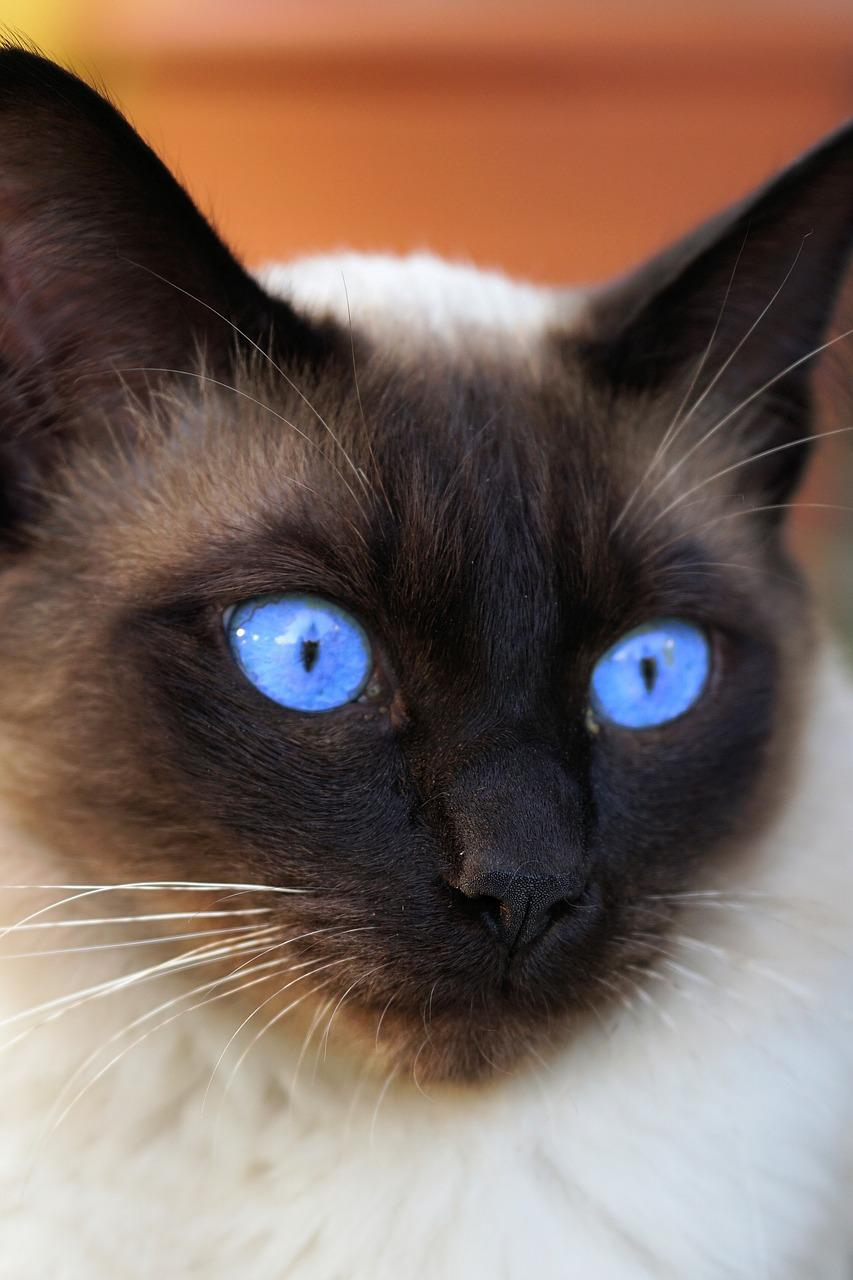siamese: (1, 149, 853, 1093)
